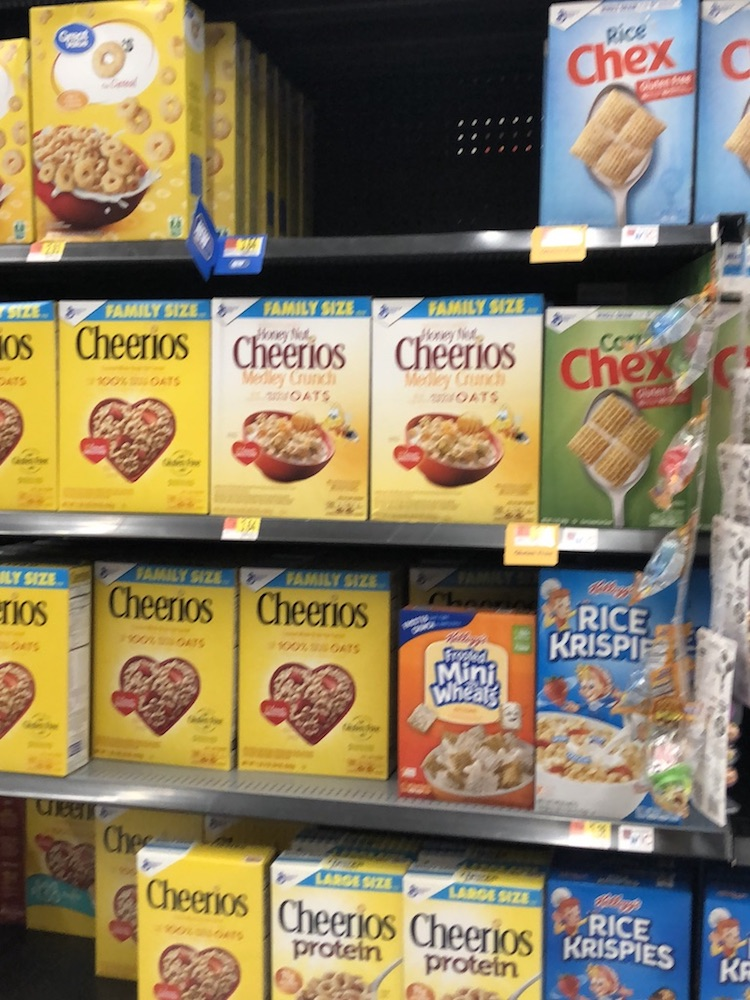Frosted Mini Original -9295869: (396, 608, 544, 809)
